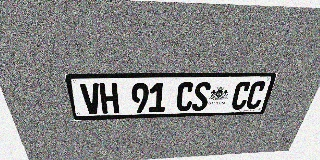1: (149, 82, 166, 112)
9: (131, 83, 149, 113)
C: (230, 81, 252, 110), (245, 81, 267, 109), (176, 82, 195, 111)
H: (99, 83, 119, 114)
S: (191, 82, 211, 111)
V: (80, 83, 102, 114)
